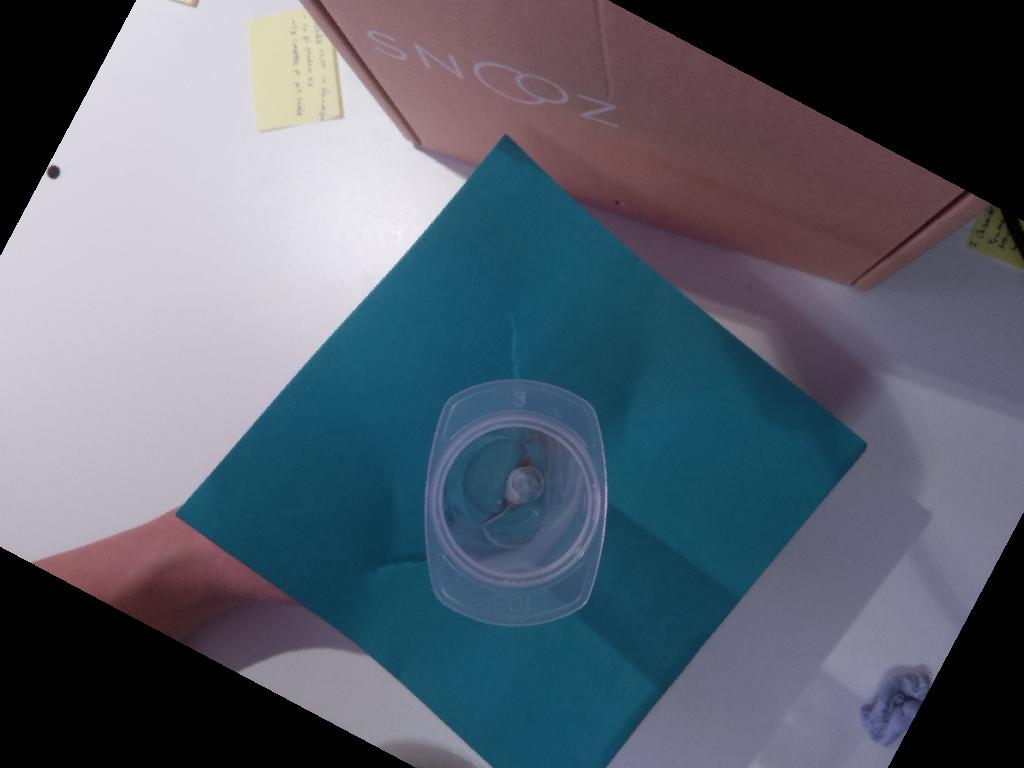clean: (421, 376, 609, 627)
